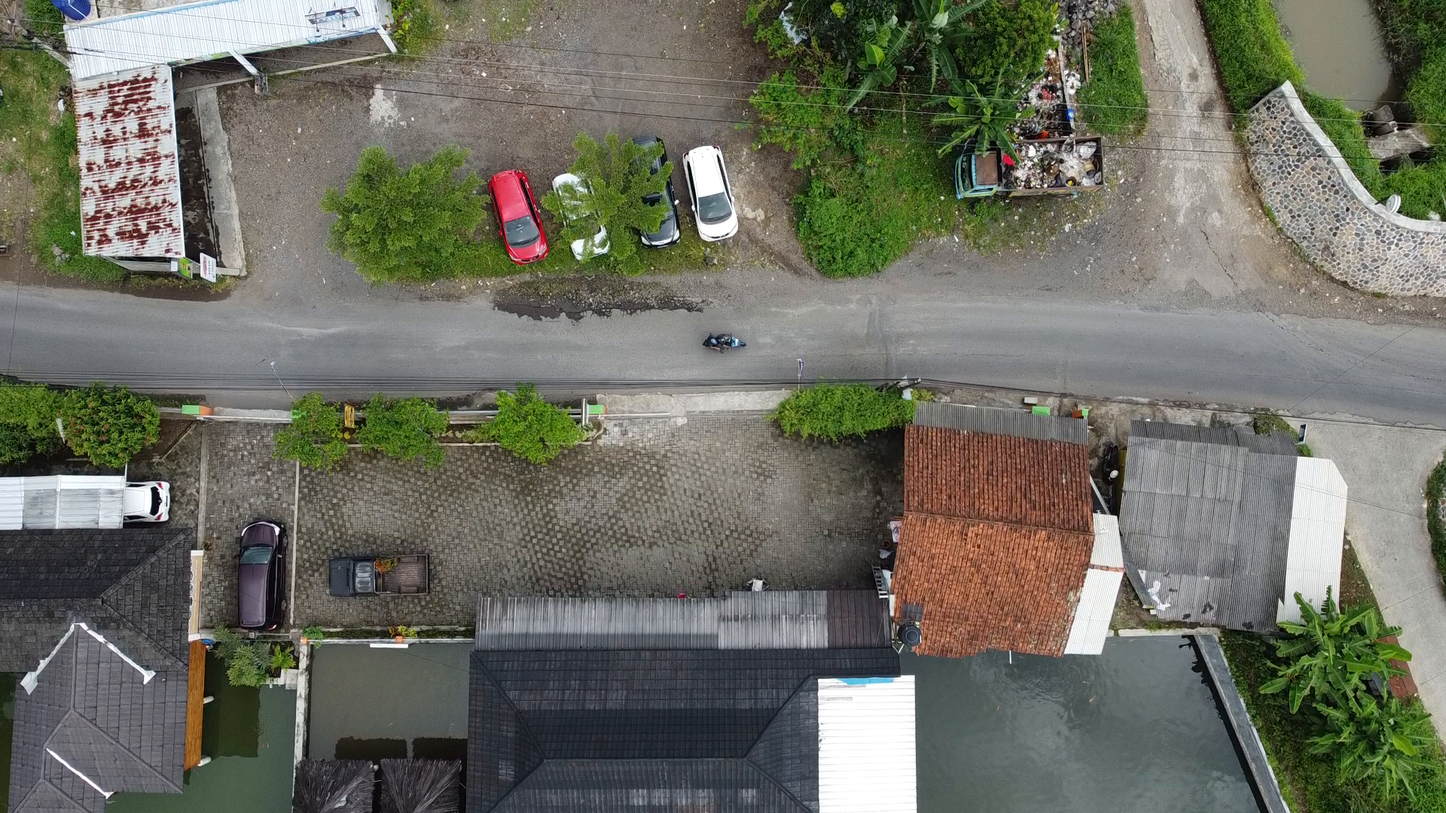mobil: (468, 159, 557, 282), (320, 539, 454, 605), (226, 513, 297, 637), (607, 136, 680, 255), (542, 163, 619, 273), (679, 141, 752, 249), (121, 469, 184, 537)
